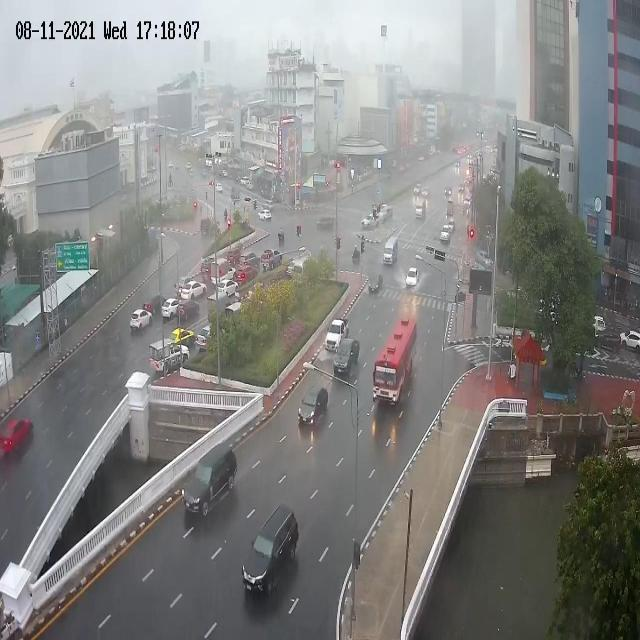Bus: (371, 319, 417, 405)
Car: (241, 505, 300, 596), (181, 445, 239, 519), (0, 417, 35, 458), (298, 384, 328, 430), (168, 326, 196, 347), (130, 312, 154, 336), (177, 298, 200, 322), (162, 296, 182, 321), (181, 281, 207, 300), (619, 329, 640, 350), (144, 295, 166, 315), (235, 265, 258, 284), (262, 249, 282, 270), (216, 279, 238, 298), (196, 325, 212, 350), (476, 251, 493, 268), (368, 274, 382, 294), (239, 253, 260, 266), (406, 267, 418, 288), (362, 215, 379, 229), (227, 248, 240, 265), (440, 224, 450, 244), (258, 210, 272, 222), (382, 205, 393, 219), (448, 219, 456, 232), (414, 182, 422, 195), (215, 183, 222, 193), (458, 183, 465, 192), (422, 188, 429, 196)
Cycle: (352, 251, 361, 263), (278, 230, 284, 244), (224, 213, 228, 220)
Truck: (334, 337, 361, 380), (326, 316, 350, 354)
Van: (383, 237, 397, 264), (592, 315, 607, 337), (416, 199, 425, 219)
